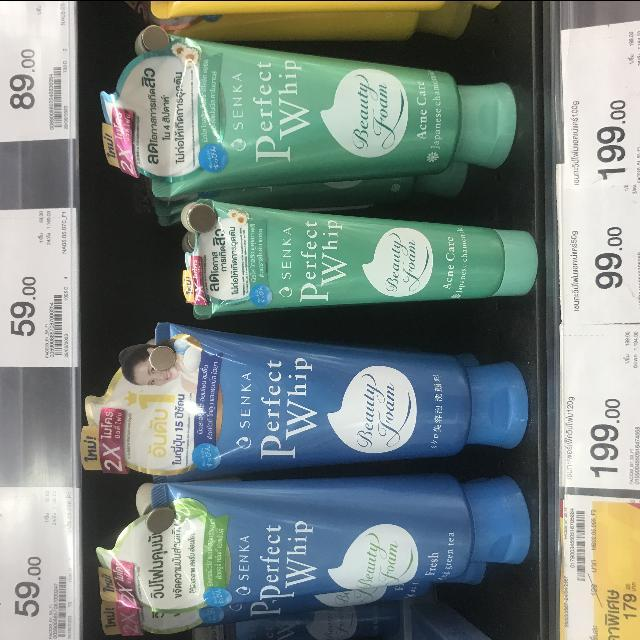Squeeze Tube: (81, 0, 544, 640), (132, 474, 538, 632), (144, 43, 519, 212), (141, 323, 524, 485), (175, 193, 545, 309)
